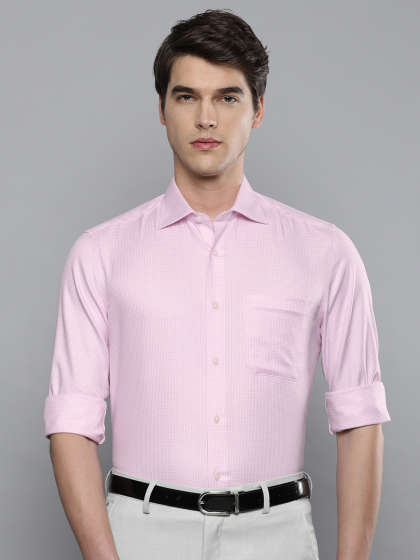F_belt: (84, 474, 323, 514)
F_shirt: (24, 174, 390, 483)
